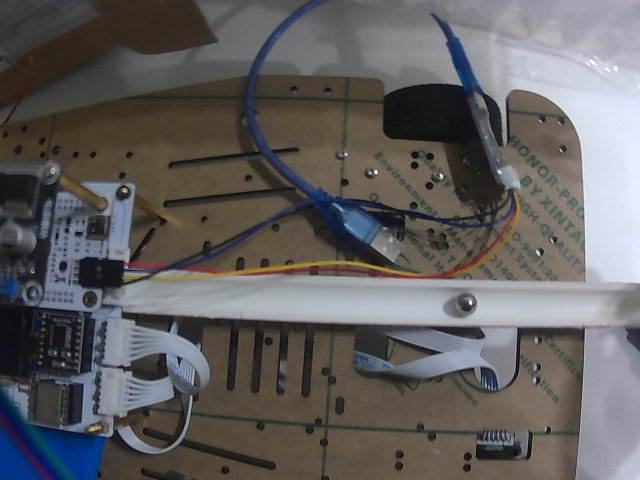steelball: (455, 293, 477, 315)
